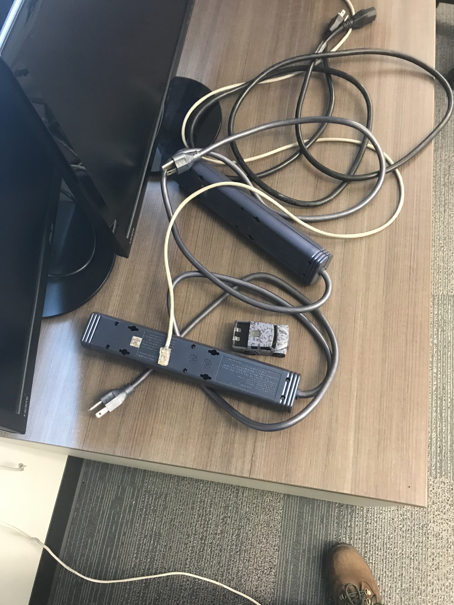MXT: (229, 319, 291, 358)
